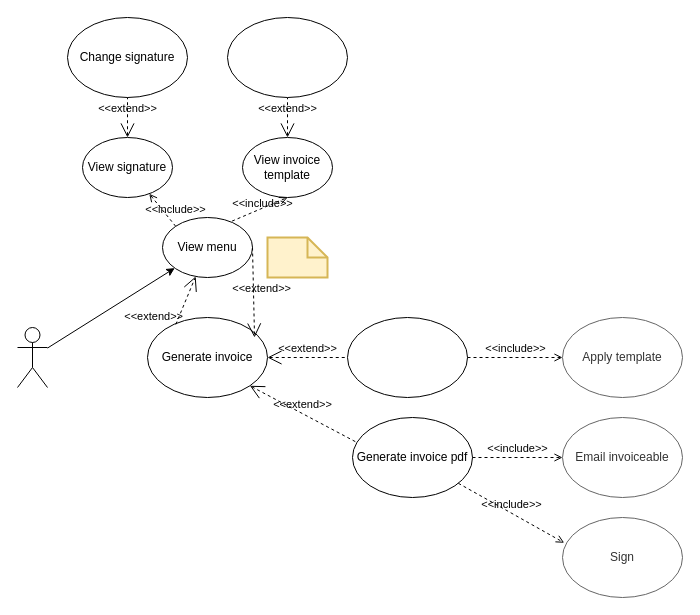
This 700x615 diagram has some shape labels left out. The shapes that lost their labels are listed below. From the top down, each one's box as (x1, y1, x2, y2) in pixels, then its label:
(226, 16, 348, 98): Edit invoice template
(266, 236, 328, 278): Go back
(16, 326, 48, 388): User
(346, 316, 468, 398): Add invoice line
